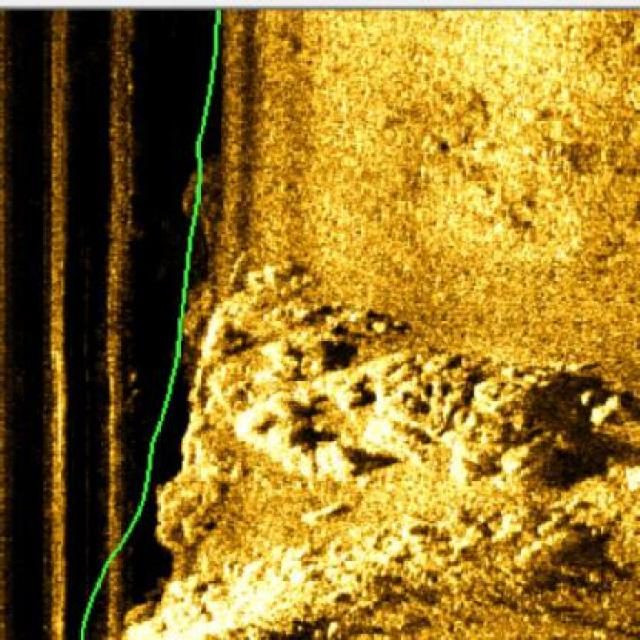bedrock group: (120, 256, 638, 639)
